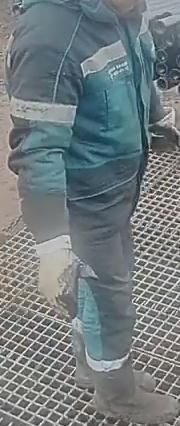gloves: (29, 216, 99, 323), (150, 102, 180, 157)
vest: (0, 0, 156, 221)
